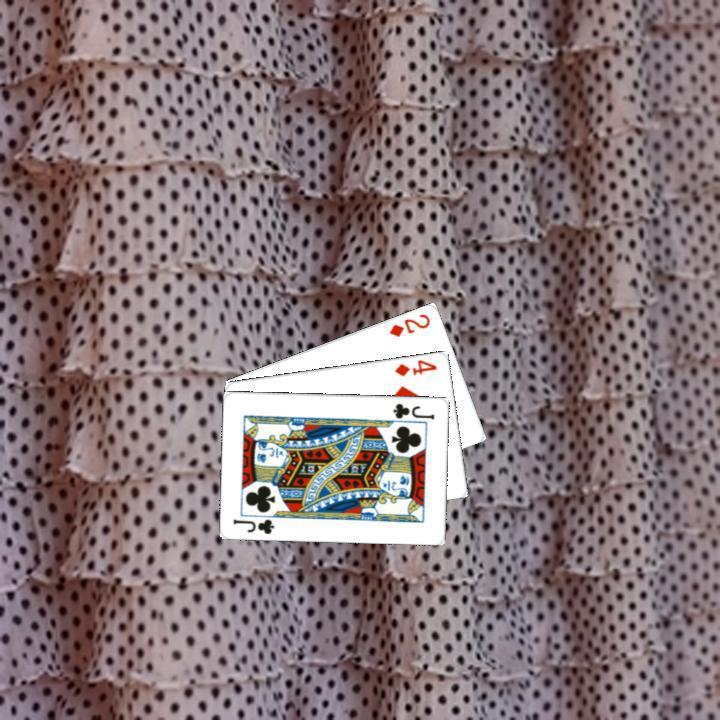2: (385, 309, 432, 339)
4: (391, 355, 439, 378)
J: (389, 398, 437, 421), (229, 514, 276, 536)
